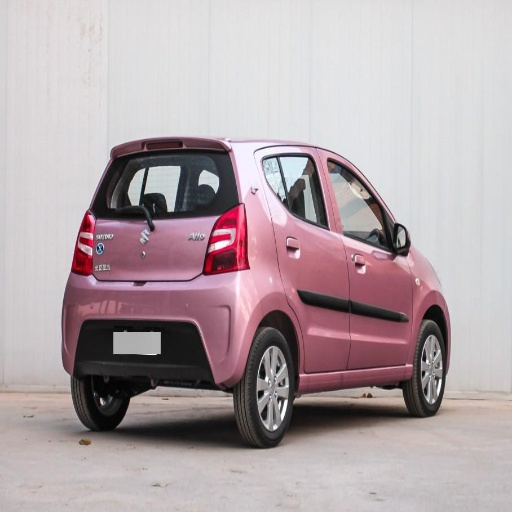back_bumper: (61, 270, 258, 385)
back_right_door: (267, 150, 346, 382)
trunk: (90, 218, 218, 315)
